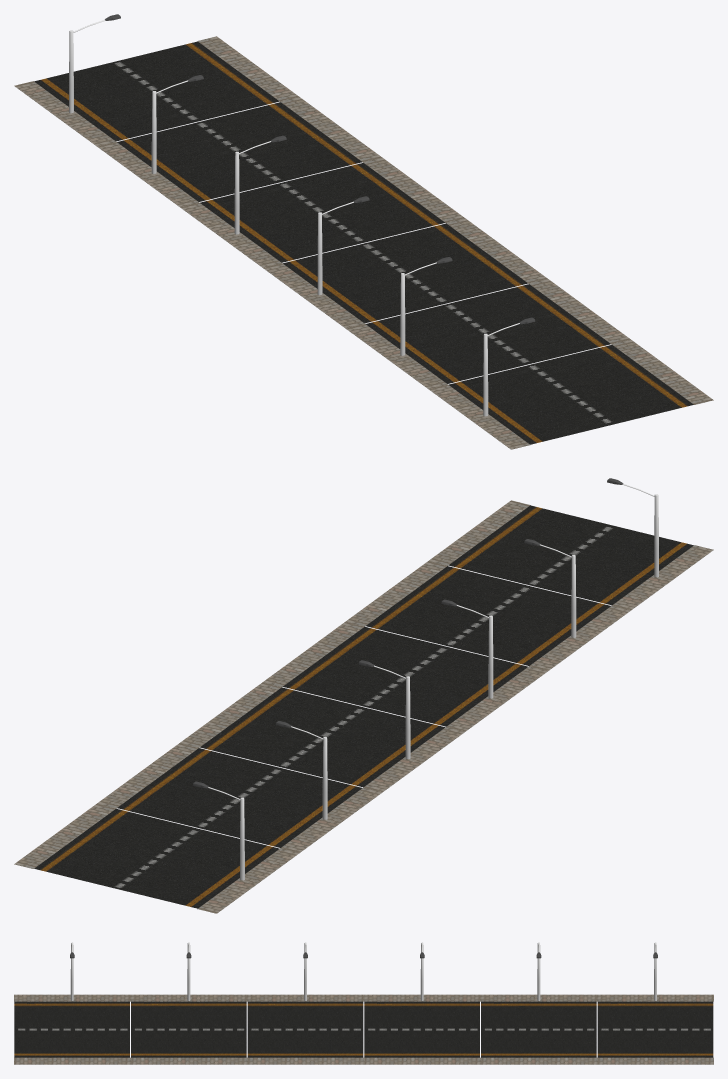
The model's file is street.gltf.
The picture shows the model from 3 angles, top to bottom: view 1: azimuth 30°, elevation 25°; view 2: azimuth 150°, elevation 25°; view 3: azimuth 270°, elevation 25°; orthographic projection. The views are drawn at different scales.
Parts seen in each view (by area): view 1: PrototypeObstacle__road__road.001; view 2: PrototypeObstacle__road__road.001; view 3: PrototypeObstacle__road__road.001.
Part boxes in pixels (x1=…): PrototypeObstacle__road__road.001: x1=14, y1=14, x2=713, y2=449; PrototypeObstacle__road__road.001: x1=14, y1=478, x2=713, y2=913; PrototypeObstacle__road__road.001: x1=14, y1=942, x2=713, y2=1064.
Size of the model in its own units: 63.41 by 26.18 by 269.
Materials: 3 (3 with a texture image).
